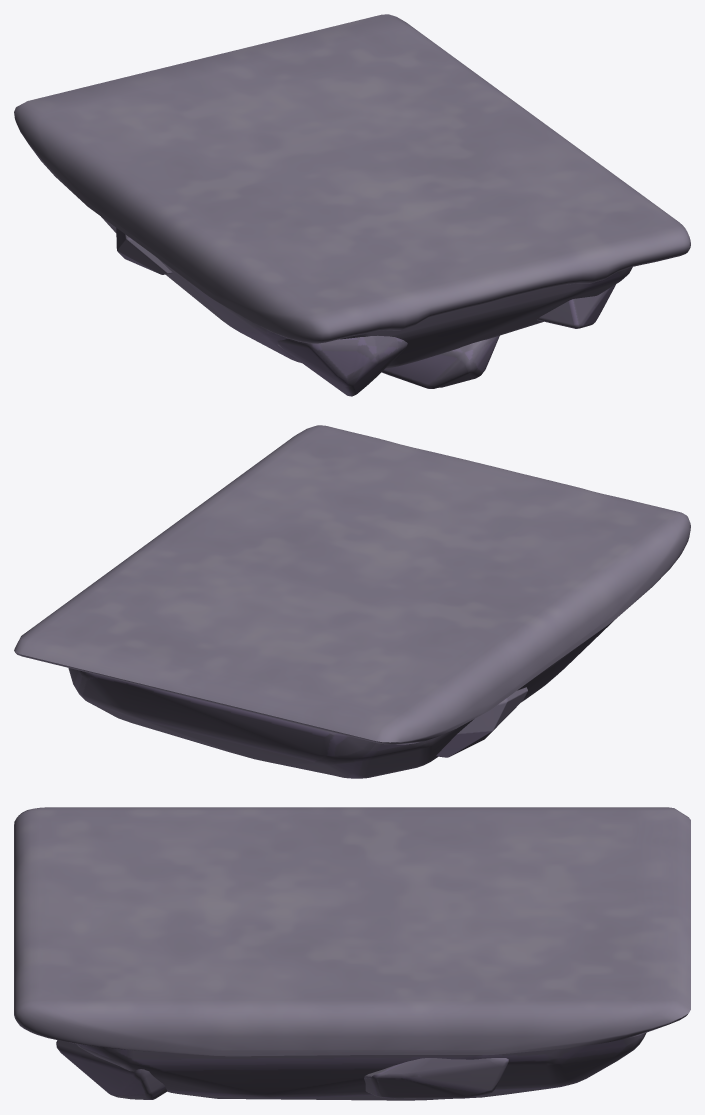
The model's file is EF_T06_BasaltPlatform.fbx.
3 renders of one model, top to bottom at view 1: azimuth 30°, elevation 25°; view 2: azimuth 150°, elevation 25°; view 3: azimuth 270°, elevation 25°, orthographic. The views are drawn at different scales.
Visible parts, largest first — view 1: Crust, Rock; view 2: Crust, Rock; view 3: Crust, Rock.
Boxes of the visible parts, x1,y1,x2,y2 form: Crust: (14,14,690,343); Rock: (101,217,632,396); Crust: (14,425,690,744); Rock: (68,620,614,778); Crust: (14,807,690,1056); Rock: (56,1032,646,1100).
Size of the model in its own units: 3 by 0.9832 by 3.99.
